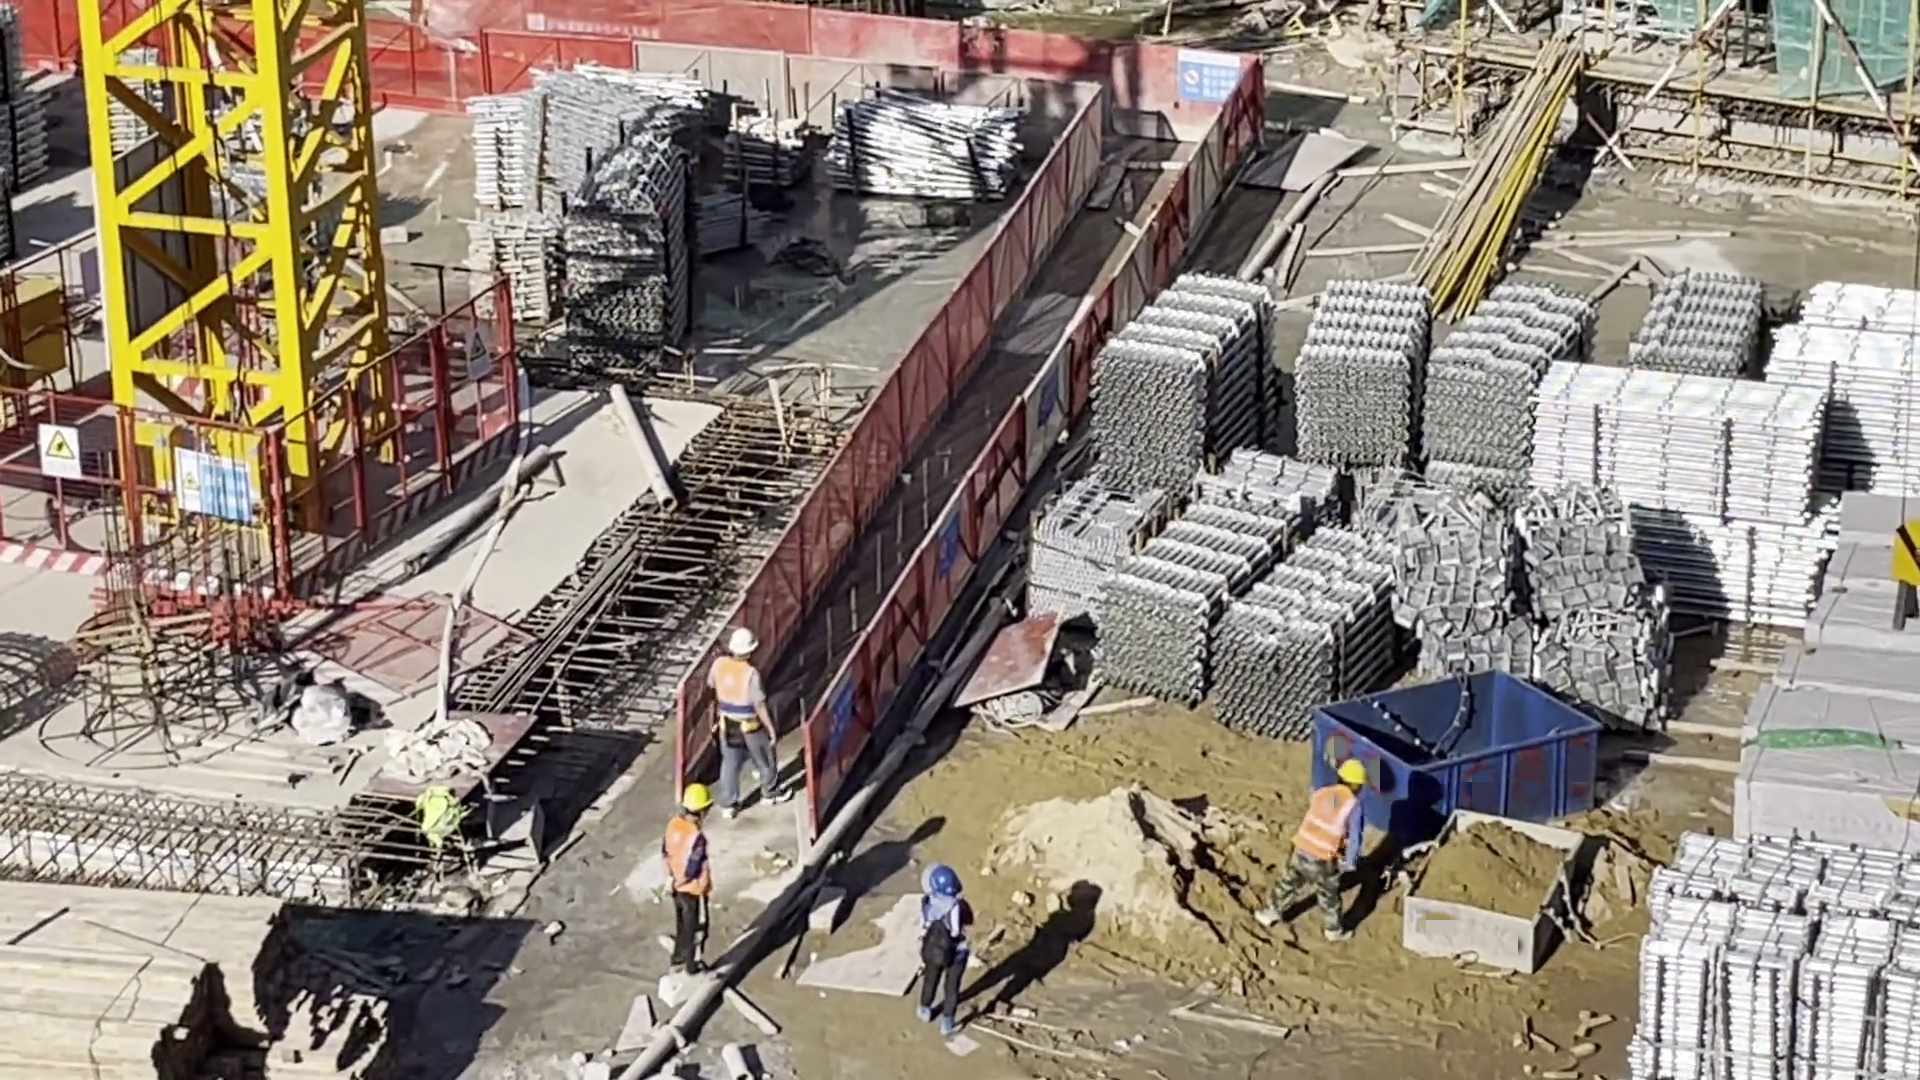fence: (659, 23, 1251, 841)
helmet: (914, 854, 970, 897), (717, 628, 766, 664), (1326, 753, 1376, 789), (678, 779, 717, 819)
hopper: (1311, 658, 1618, 833), (1398, 790, 1588, 971)
person: (705, 624, 786, 806), (664, 780, 728, 984), (1288, 754, 1353, 939), (912, 867, 969, 1030)
scaffold: (1530, 266, 1920, 623), (1641, 817, 1920, 1080), (1114, 491, 1400, 740), (1085, 265, 1281, 458), (1429, 275, 1595, 484), (1290, 276, 1428, 465)
vest: (715, 661, 780, 729), (1302, 787, 1353, 858), (668, 817, 711, 886)
wood: (1, 866, 374, 1080)
